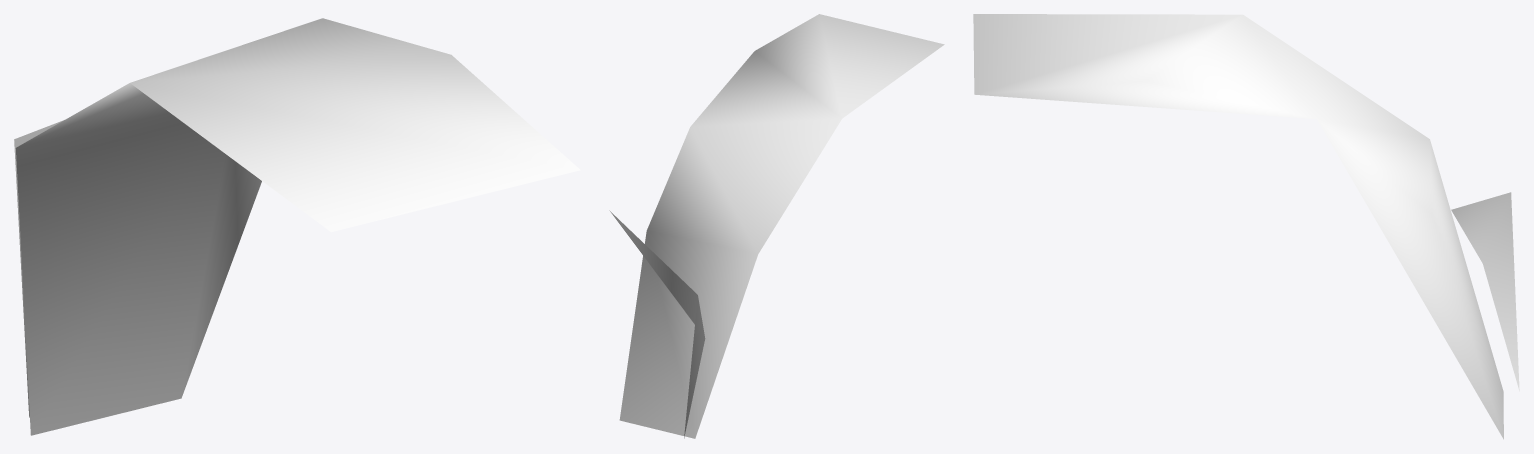
3 renders of one model, left to right at view 1: azimuth 30°, elevation 25°; view 2: azimuth 150°, elevation 25°; view 3: azimuth 270°, elevation 25°, orthographic. The views are drawn at different scales.
Bounding box in the file's own units: 0.2441 × 0.4055 × 0.5591.
Materials: 1 (1 with a texture image).
